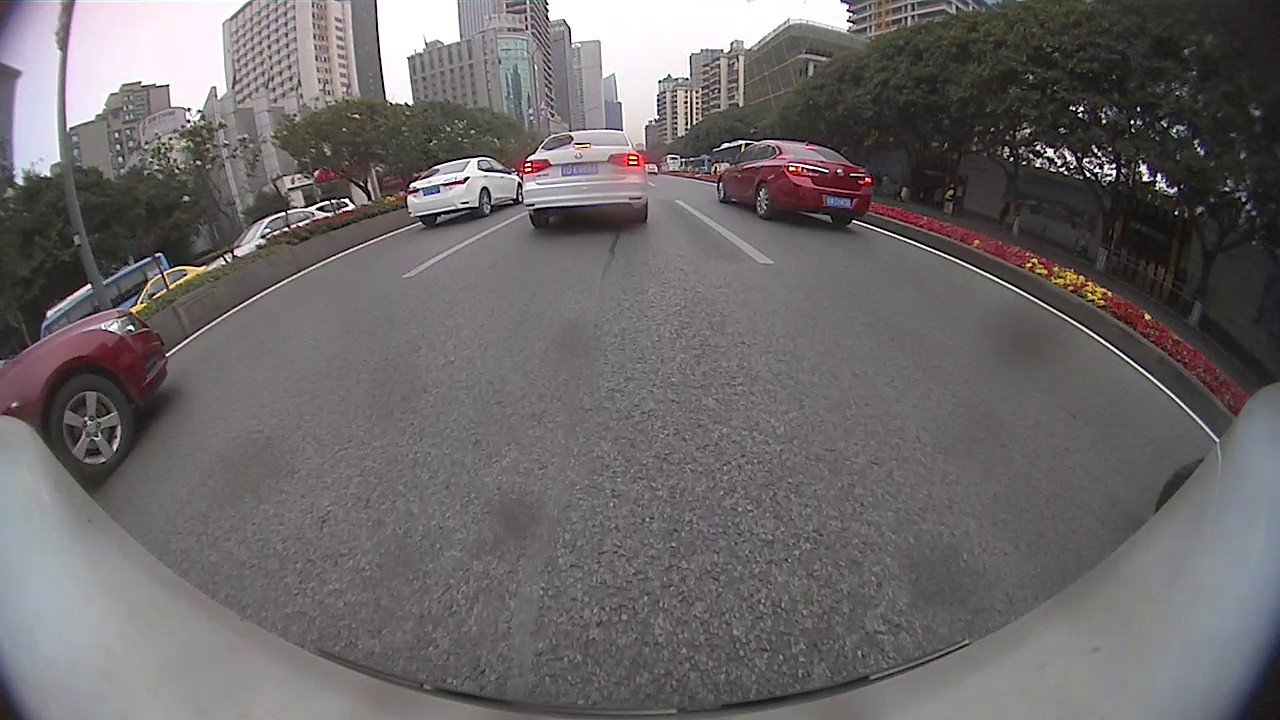bus: (39, 251, 170, 342), (709, 136, 757, 172), (662, 155, 684, 172), (689, 153, 710, 170)
car: (1, 306, 170, 485), (715, 142, 874, 228), (521, 128, 649, 230), (408, 154, 520, 229), (136, 261, 229, 312), (226, 211, 322, 255), (302, 199, 358, 219)
front: (47, 374, 135, 480), (714, 179, 728, 205)
rear: (754, 182, 773, 219), (478, 186, 492, 217)
